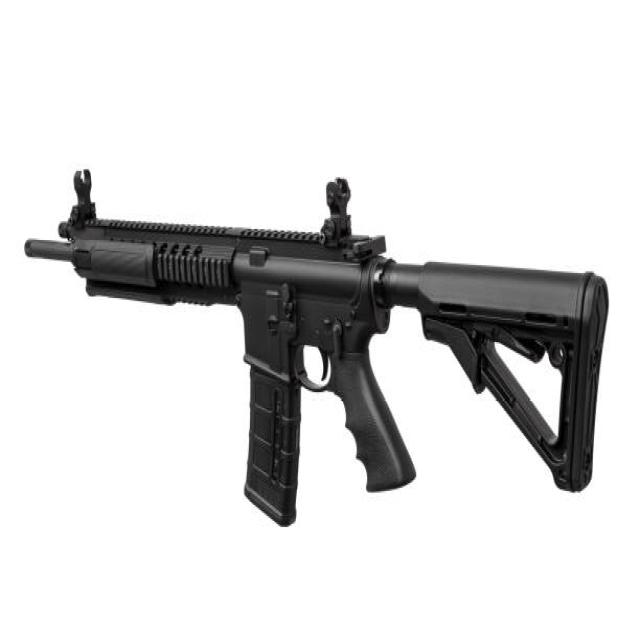rifle: (16, 161, 614, 538)
